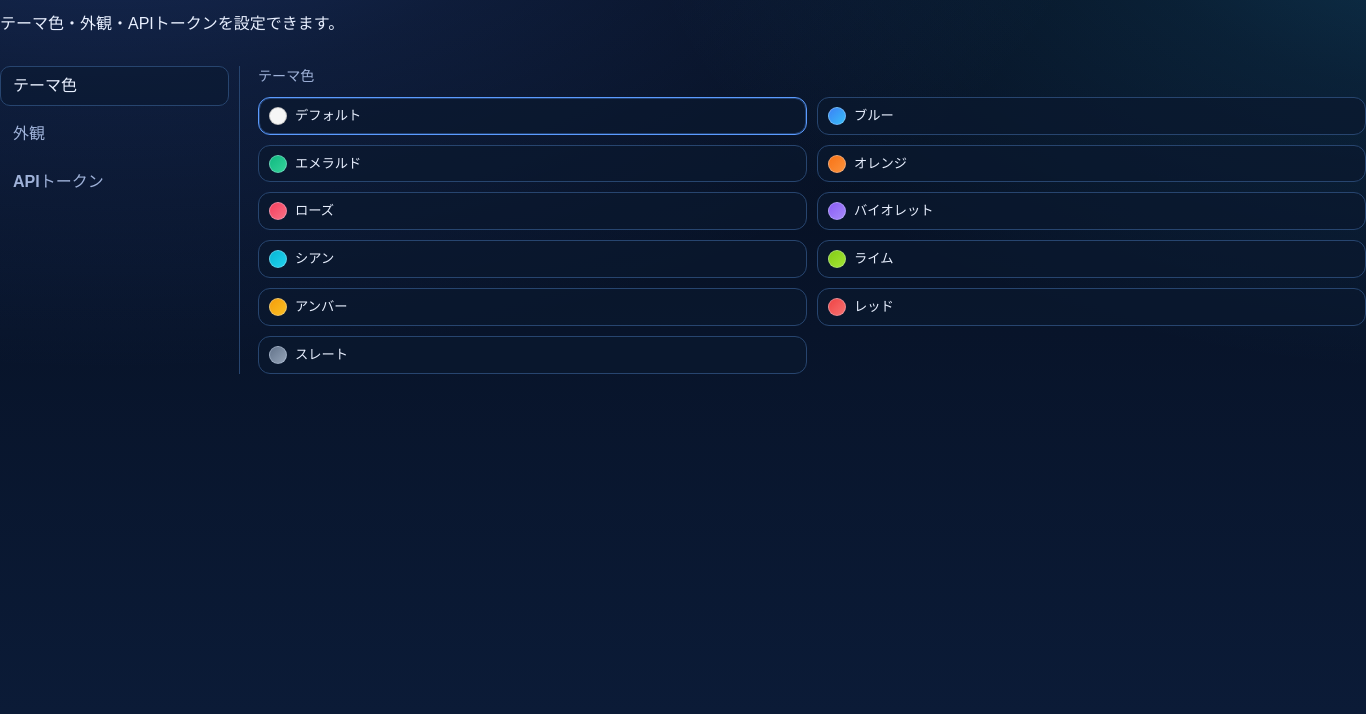
Scenario: SettingsPanel › auto-saves first created token when no active token exists
Click the tab "APIトークン" at (114,182), box top-left (0, 162), bottom-right (229, 203)
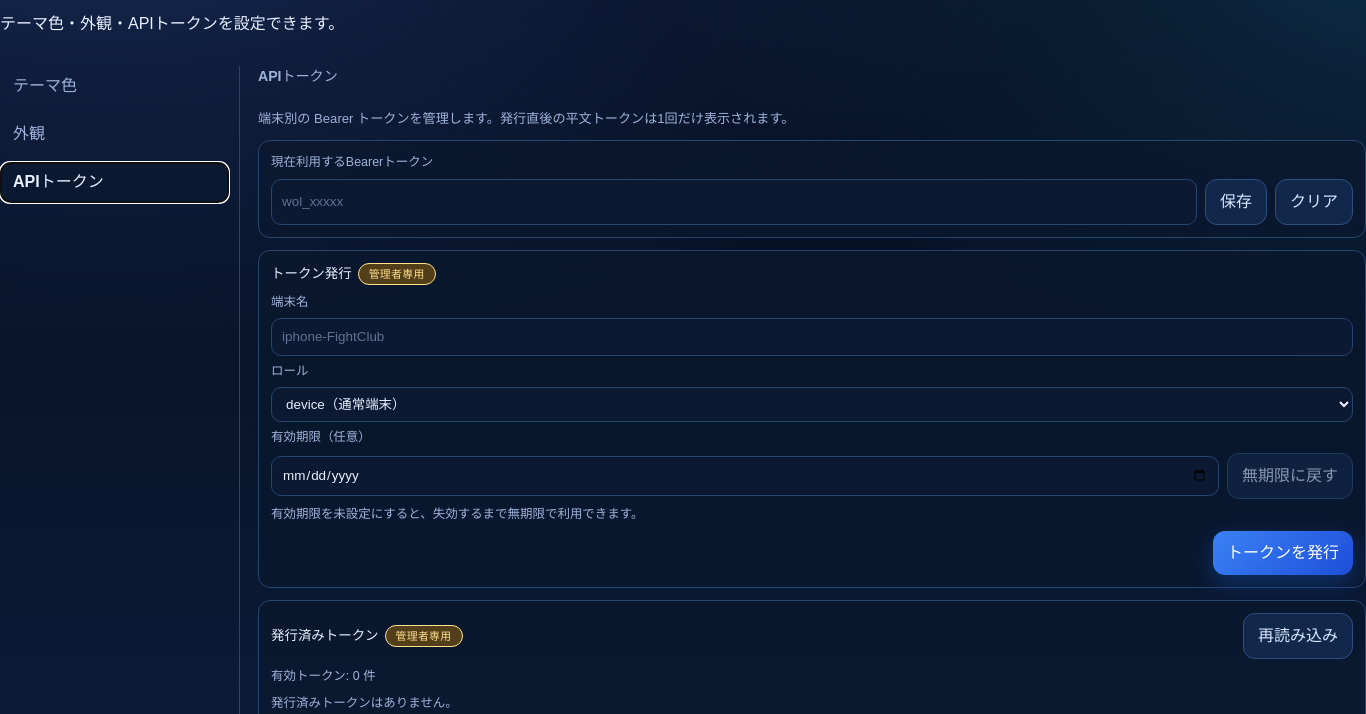
Type "iphone-action-button" into the field labelled "端末名" at (812,337), box top-left (271, 318), bottom-right (1353, 356)
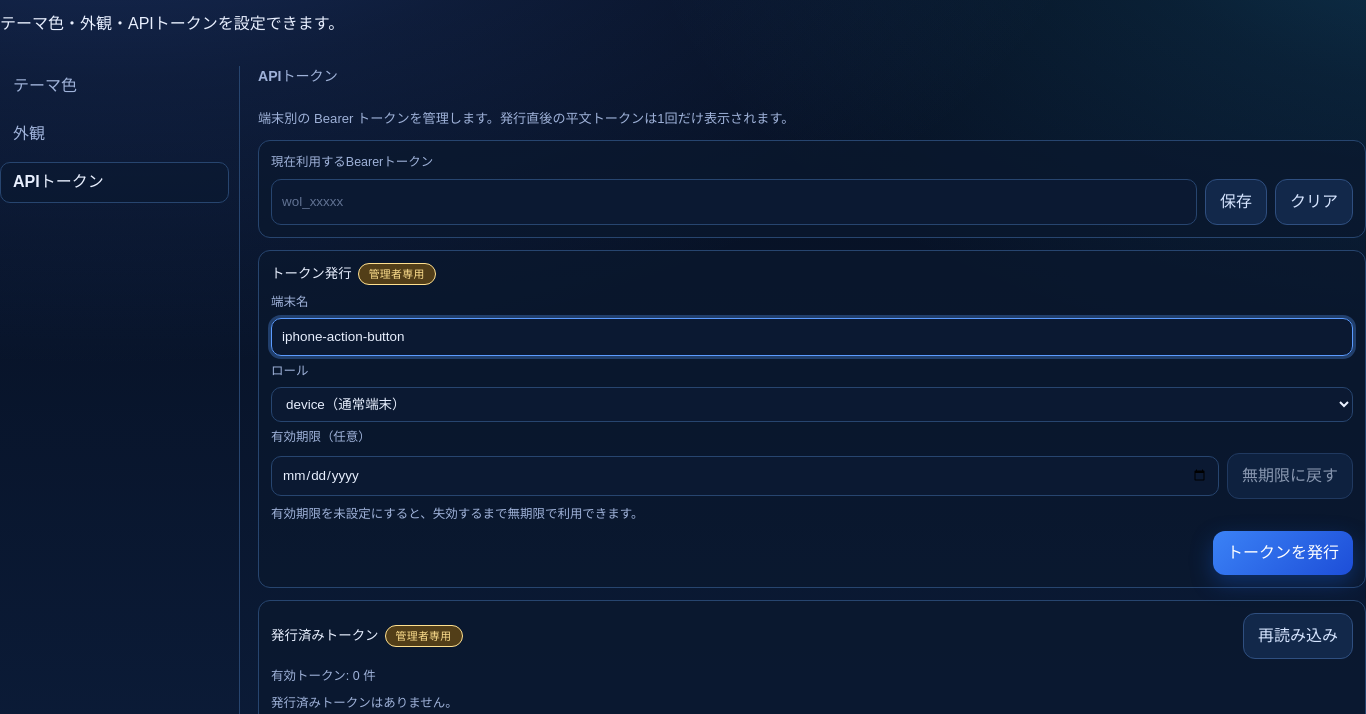
Click the button "トークンを発行" at (1283,553), box top-left (1213, 531), bottom-right (1353, 575)
(page scrolled)
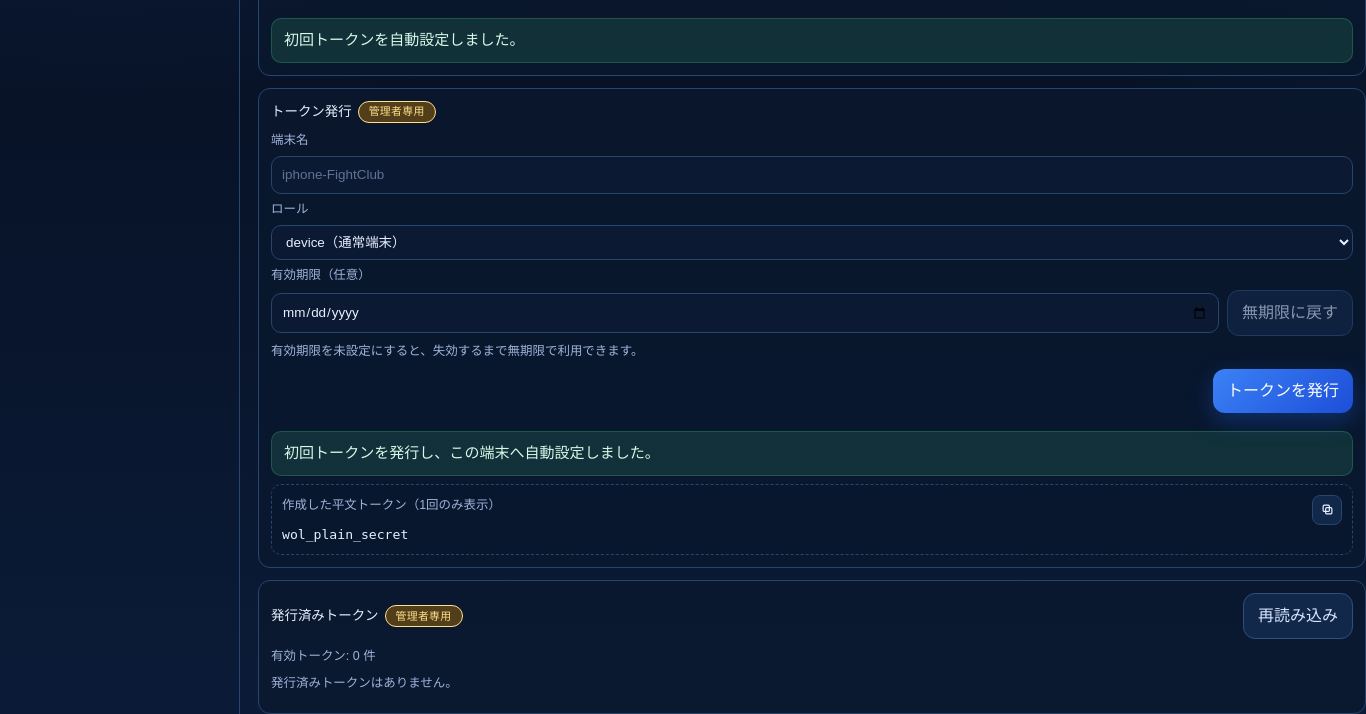
expect the text "初回トークンを発行し、この端末へ自動設定しました。" is shown: met, box top-left (271, 431), bottom-right (1353, 476)
expect the text "初回トークンを自動設定しました。" is shown: met, box top-left (271, 18), bottom-right (1353, 63)
expect the text "作成した平文トークン（1回のみ表示）" is shown: met, box top-left (282, 496), bottom-right (501, 515)
